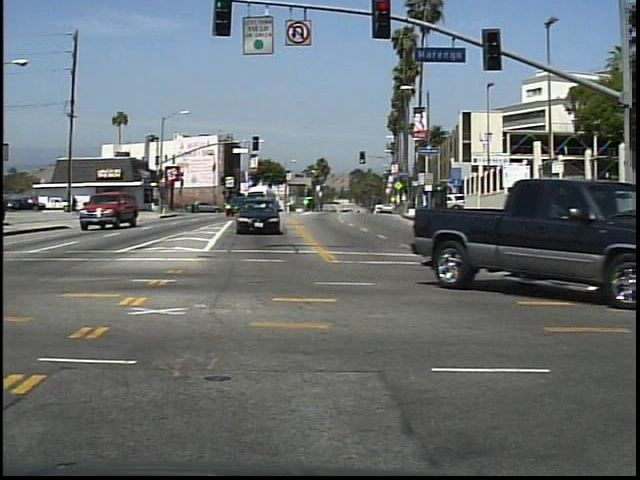person: (68, 191, 83, 218)
